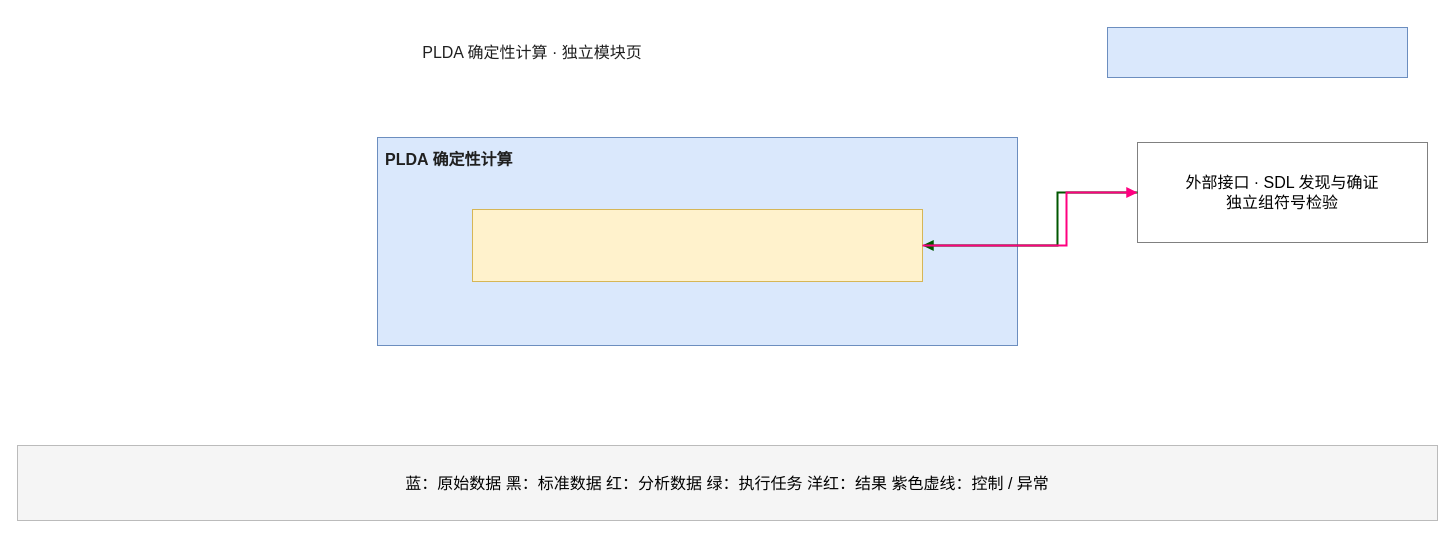
Image size: 1455x538. Some labels were removed from this diagram. The centre of each missing label's shape, as x and y in pixels:
任务 DAG / CPU 损失计算: [697,245]
返回总图 ↗: [1257,52]
